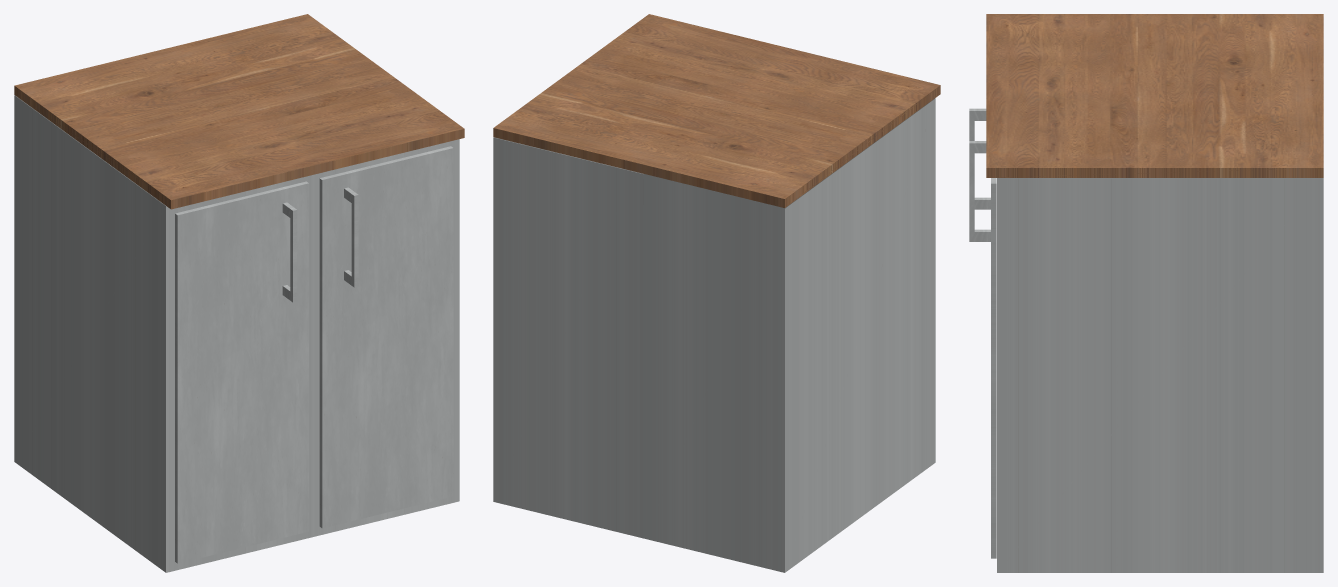
Rendered from GabinetePuertas.glb.
3 views of the same model, side by side, from view 1: azimuth 30°, elevation 25°; view 2: azimuth 150°, elevation 25°; view 3: azimuth 270°, elevation 25° (orthographic). The views are drawn at different scales.
Visible parts, largest first — view 1: DePuertas, TapaP, PuertaP_R, PuertaP_L, HandleP_L, HandleP_R; view 2: DePuertas, TapaP; view 3: DePuertas, TapaP, PuertaP_R, HandleP_R, HandleP_L.
Boxes of the visible parts, <box> form: DePuertas: <box>14,95,459,572</box>; TapaP: <box>14,14,464,209</box>; PuertaP_R: <box>319,146,453,528</box>; PuertaP_L: <box>175,181,308,563</box>; HandleP_L: <box>282,202,297,302</box>; HandleP_R: <box>344,187,358,287</box>; DePuertas: <box>493,98,935,572</box>; TapaP: <box>493,14,940,207</box>; DePuertas: <box>997,178,1323,572</box>; TapaP: <box>986,14,1323,177</box>; PuertaP_R: <box>991,178,996,558</box>; HandleP_R: <box>969,141,990,241</box>; HandleP_L: <box>969,108,990,209</box>.
Size of the model in its own units: 0.67 by 0.821 by 0.651.
3 materials, 3 textured.
